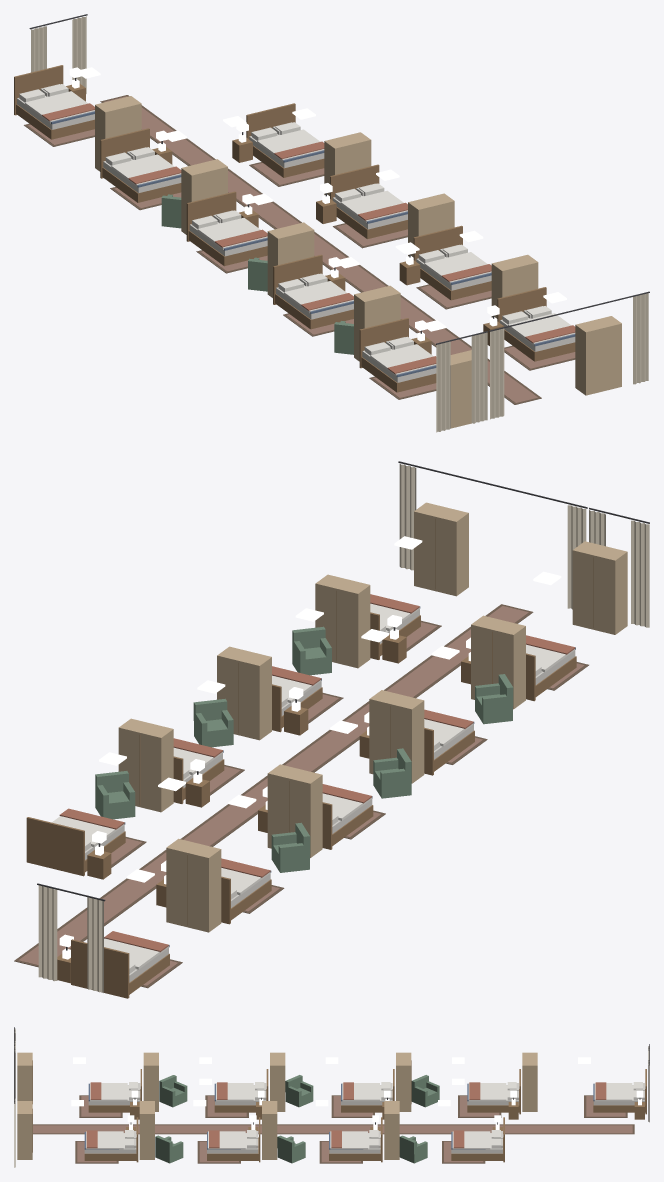
Rendered from fine-s3.glb.
3 renders of one model, top to bottom at view 1: azimuth 30°, elevation 25°; view 2: azimuth 150°, elevation 25°; view 3: azimuth 270°, elevation 25°, orthographic. The views are drawn at different scales.
Parts seen in each view (by area): view 1: soft-s3, dresser.021, bed-frame.024, bed-frame.023, bed-frame.022, bed-frame.025, bed-frame.026, bed-frame.021, bed-frame.018, bed-frame.019, bed-frame.020, dresser.024 (+10 smaller); view 2: soft-s3, dresser.022, dresser.026, dresser.021, dresser.019, dresser.020, dresser.018, dresser.024, dresser.023, dresser.025, bed-frame.018, bed-frame.022 (+13 smaller); view 3: soft-s3, dresser.022, dresser.018, dresser.019, dresser.020, dresser.021, dresser.023, dresser.024, bed-frame.021, bed-frame.019, dresser.025, bed-frame.018 (+13 smaller).
Boxes of the visible parts, x1,y1,x2,y2 form: soft-s3: [19, 14, 649, 432]; dresser.021: [575, 316, 621, 395]; bed-frame.024: [186, 191, 267, 266]; bed-frame.023: [100, 128, 181, 202]; bed-frame.022: [14, 65, 94, 139]; bed-frame.025: [273, 254, 353, 329]; bed-frame.026: [359, 318, 436, 392]; bed-frame.021: [497, 287, 575, 361]; bed-frame.018: [246, 103, 324, 177]; bed-frame.019: [330, 164, 407, 239]; bed-frame.020: [413, 225, 491, 300]; dresser.024: [267, 222, 314, 297]; soft-s3: [14, 461, 649, 992]; dresser.022: [166, 838, 221, 932]; dresser.026: [572, 541, 627, 634]; dresser.021: [414, 502, 468, 596]; dresser.019: [217, 646, 271, 740]; dresser.020: [315, 574, 370, 668]; dresser.018: [118, 718, 173, 812]; dresser.024: [369, 690, 424, 783]; dresser.023: [267, 764, 322, 857]; dresser.025: [471, 615, 525, 709]; bed-frame.018: [26, 817, 125, 876]; bed-frame.022: [71, 939, 169, 998]; soft-s3: [14, 1027, 649, 1167]; dresser.022: [522, 1052, 537, 1111]; dresser.018: [384, 1101, 399, 1159]; dresser.019: [262, 1101, 277, 1159]; dresser.020: [139, 1101, 154, 1159]; dresser.021: [17, 1101, 32, 1159]; dresser.023: [396, 1052, 411, 1111]; dresser.024: [270, 1052, 285, 1111]; bed-frame.021: [84, 1117, 138, 1162]; bed-frame.019: [329, 1117, 382, 1162]; dresser.025: [143, 1052, 158, 1111]; bed-frame.018: [451, 1117, 504, 1162].
Size of the model in its own units: 7.06 by 2.86 by 24.92.
